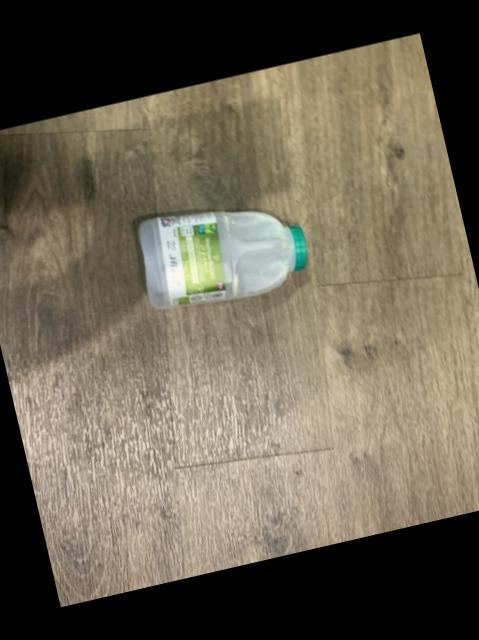plastic: (138, 210, 305, 306)
